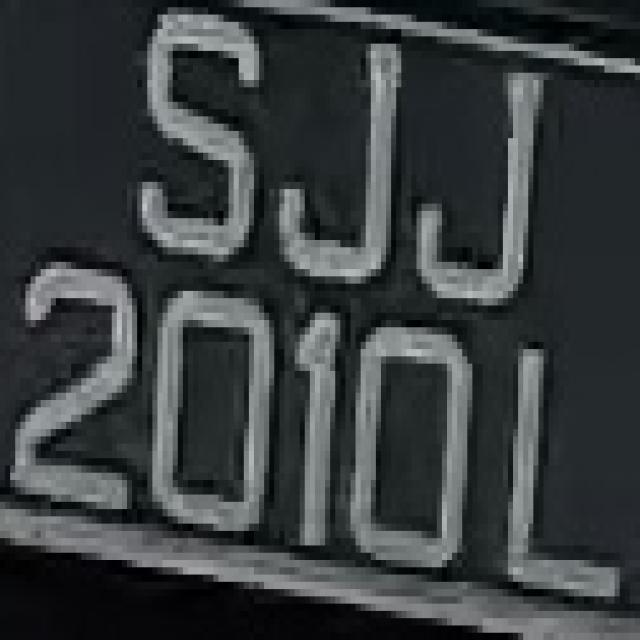0: (350, 276, 488, 618), (143, 255, 280, 552)
1: (294, 269, 356, 582)
2: (15, 225, 142, 546)
J: (279, 14, 427, 306), (411, 51, 559, 320)
L: (498, 306, 620, 626)
S: (127, 15, 264, 284)
